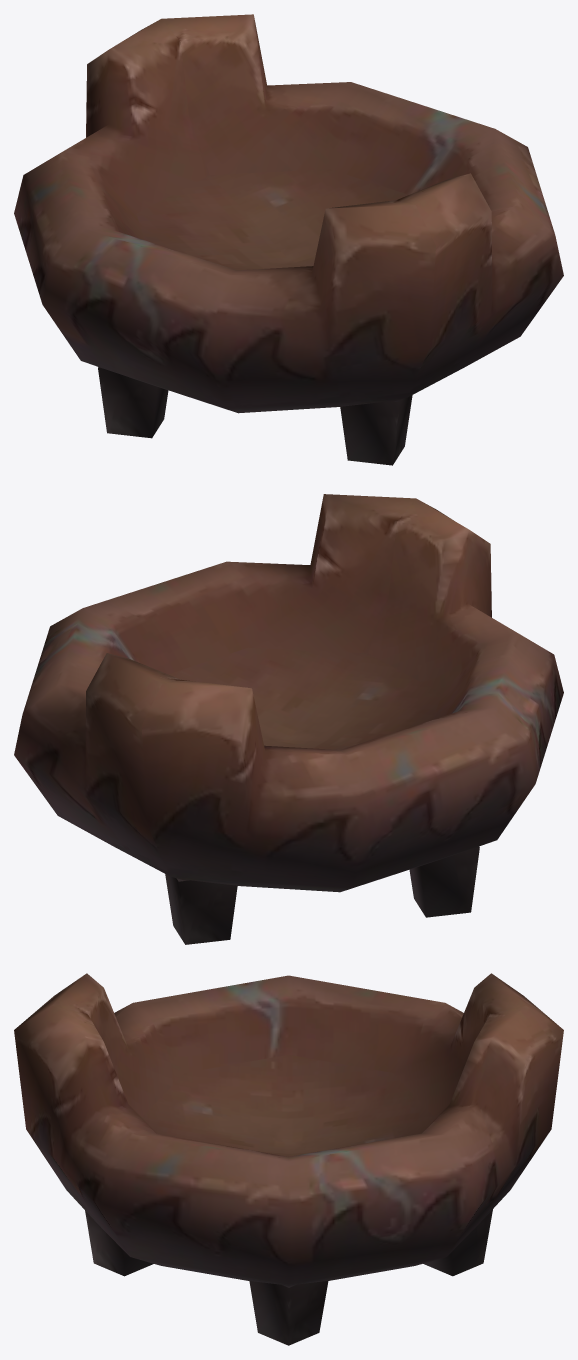
3 renders of one model, top to bottom at view 1: azimuth 30°, elevation 25°; view 2: azimuth 150°, elevation 25°; view 3: azimuth 270°, elevation 25°, orthographic. The views are drawn at different scales.
Size of the model in its own units: 1.15 by 0.6306 by 1.19.
1 material, 1 textured.
